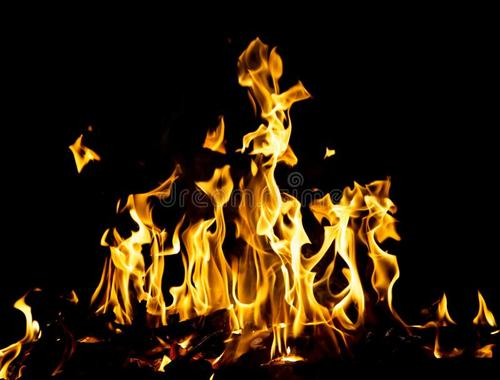fire: (56, 78, 425, 359)
